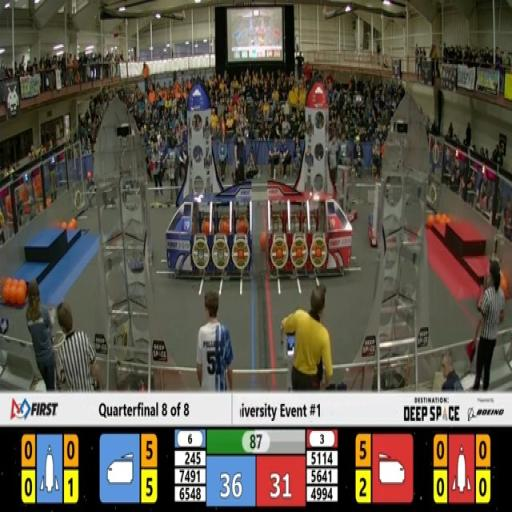robot: (367, 182, 400, 248), (328, 162, 358, 224)
